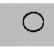no answer: (19, 9, 46, 35)
